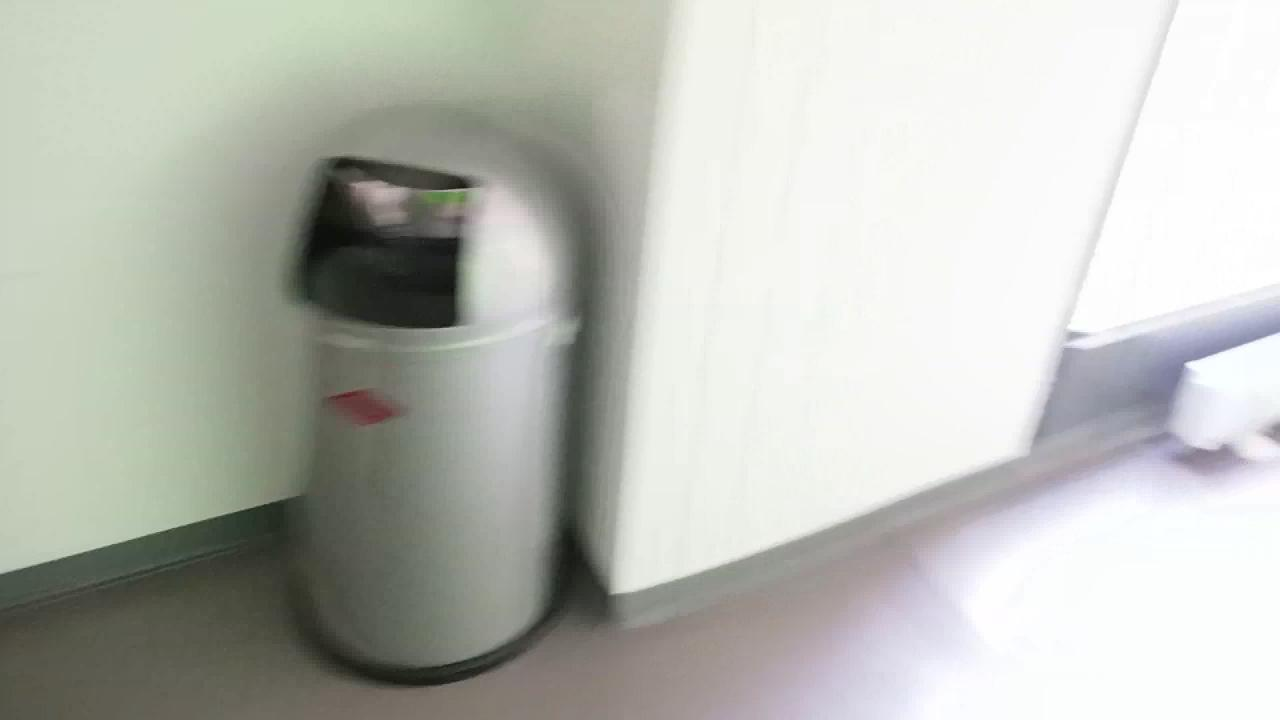trashbin: (286, 165, 572, 674)
